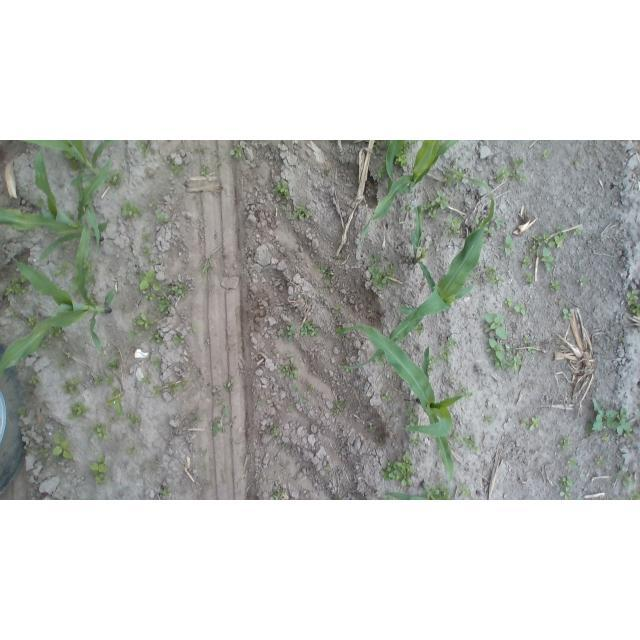Maize: (336, 166, 494, 369), (340, 325, 465, 484), (1, 226, 111, 373), (0, 147, 108, 263), (361, 141, 459, 236), (22, 140, 112, 184), (413, 206, 436, 293), (385, 481, 436, 500), (383, 141, 401, 194), (108, 390, 125, 416)
Weeds: (520, 227, 566, 271), (593, 398, 631, 435), (380, 452, 414, 489), (210, 385, 231, 435), (424, 188, 448, 219), (127, 313, 154, 339), (483, 312, 508, 340), (136, 268, 162, 292), (366, 265, 393, 288), (486, 340, 508, 367), (52, 434, 72, 460), (3, 276, 27, 297), (89, 455, 107, 483), (66, 402, 90, 421), (153, 294, 175, 314), (274, 179, 293, 201), (614, 470, 638, 487), (626, 290, 640, 319), (121, 201, 143, 219), (277, 363, 299, 381), (166, 280, 189, 297), (61, 377, 81, 396), (445, 166, 464, 186), (511, 156, 526, 181), (485, 268, 504, 287), (301, 319, 320, 338), (166, 156, 184, 176), (558, 476, 573, 500), (501, 233, 516, 256), (492, 164, 511, 182), (445, 217, 462, 237), (106, 171, 125, 188), (457, 481, 474, 500), (316, 262, 334, 279), (281, 325, 300, 341), (92, 424, 109, 441), (267, 421, 282, 440), (198, 257, 214, 274), (53, 263, 71, 278), (65, 153, 80, 171), (330, 400, 346, 416), (268, 488, 287, 501), (171, 333, 185, 350), (510, 353, 523, 371), (394, 152, 408, 168), (141, 140, 154, 157), (292, 206, 309, 219), (407, 407, 419, 425), (129, 413, 144, 427), (229, 147, 246, 159), (558, 438, 573, 451), (140, 372, 153, 386), (165, 382, 179, 395), (513, 303, 526, 317), (429, 356, 440, 372), (465, 437, 478, 450), (565, 457, 577, 470), (437, 483, 450, 495), (529, 417, 540, 431), (156, 212, 168, 224), (410, 436, 423, 447), (56, 359, 70, 369), (48, 329, 62, 339), (461, 384, 471, 398), (441, 347, 451, 361), (26, 315, 38, 326), (140, 245, 151, 257), (105, 374, 116, 386), (94, 376, 105, 388), (161, 485, 173, 496), (594, 454, 605, 466), (84, 260, 94, 273), (227, 377, 236, 391), (418, 323, 427, 337), (127, 446, 138, 457), (201, 165, 211, 177), (573, 152, 583, 164), (448, 339, 460, 349), (449, 431, 459, 443), (153, 356, 162, 369), (112, 414, 125, 423), (87, 275, 97, 286), (341, 363, 352, 373), (483, 226, 494, 236), (16, 408, 28, 417), (28, 376, 40, 385), (562, 308, 571, 320), (524, 272, 533, 284), (628, 491, 640, 500), (381, 164, 388, 179), (195, 146, 208, 154), (406, 140, 419, 148), (483, 414, 493, 424), (39, 447, 50, 456), (153, 386, 164, 395), (381, 394, 392, 403), (524, 336, 535, 345), (190, 322, 198, 334), (148, 202, 160, 210), (332, 305, 341, 315), (540, 150, 550, 159), (109, 360, 120, 368), (146, 293, 155, 302), (181, 380, 190, 389), (304, 382, 313, 391), (450, 378, 459, 387), (574, 228, 583, 237), (11, 309, 21, 317), (325, 463, 333, 473), (550, 281, 558, 291), (155, 335, 163, 344), (504, 297, 513, 305), (495, 219, 505, 226), (579, 277, 586, 286), (323, 168, 331, 175), (142, 233, 150, 240), (334, 326, 342, 333), (624, 431, 633, 437), (601, 436, 611, 441), (149, 259, 158, 264), (292, 386, 298, 393), (301, 397, 308, 403), (619, 336, 626, 342), (258, 396, 263, 404), (112, 390, 120, 395), (529, 348, 536, 353), (520, 419, 526, 424)
